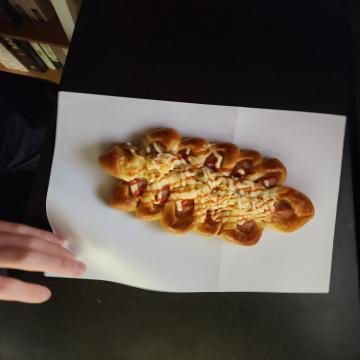pizza_bread: (129, 47, 246, 265)
